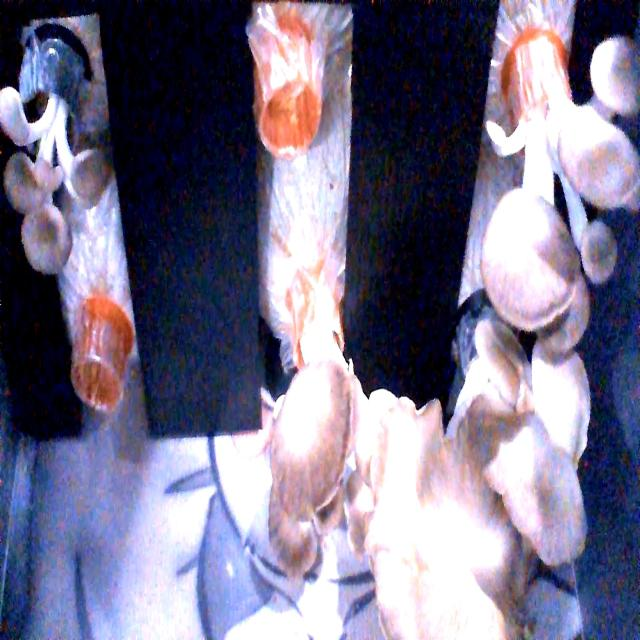big: (369, 378, 607, 640), (481, 45, 638, 360), (266, 351, 366, 587)
nfound: (58, 331, 139, 438), (259, 65, 329, 168)
small: (0, 75, 128, 286)
